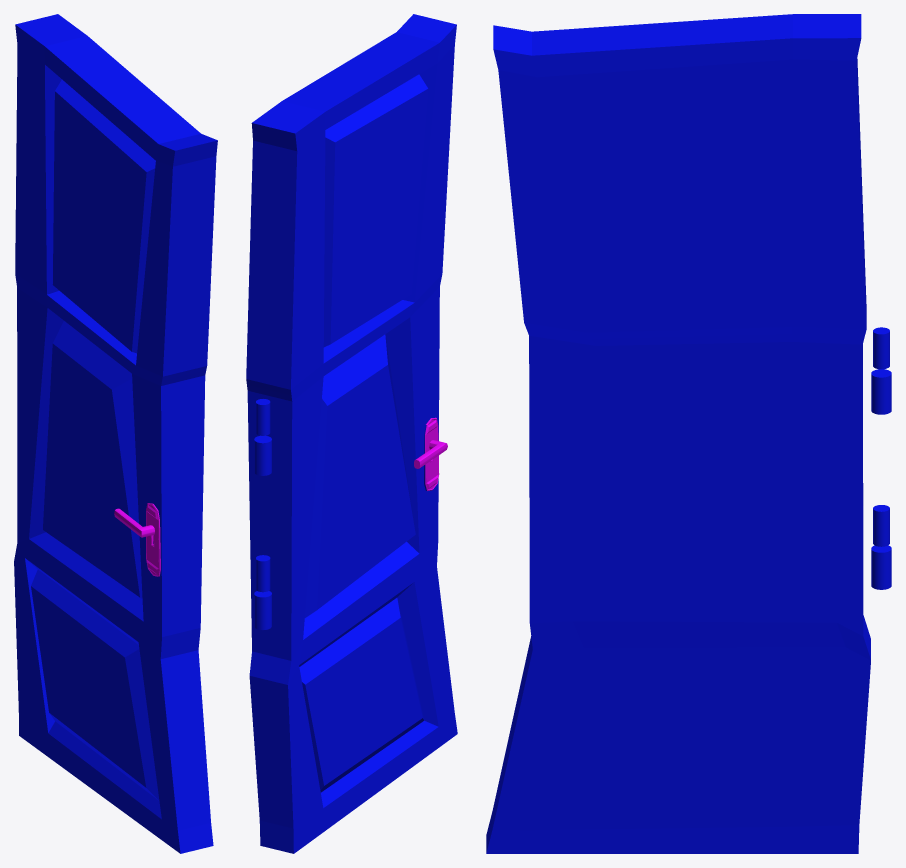
File: doorLeft.fbx
3 views of the same model, side by side, from view 1: azimuth 30°, elevation 25°; view 2: azimuth 150°, elevation 25°; view 3: azimuth 270°, elevation 25° (orthographic). The views are drawn at different scales.
Visible parts, largest first — view 1: Box042; view 2: Box042; view 3: Box042.
Part boxes in pixels (x1,y1,x2,y2): Box042: (14, 14, 217, 853); Box042: (246, 14, 457, 853); Box042: (486, 14, 891, 853).
Size of the model in its own units: 0.2067 by 2.41 by 1.08.
